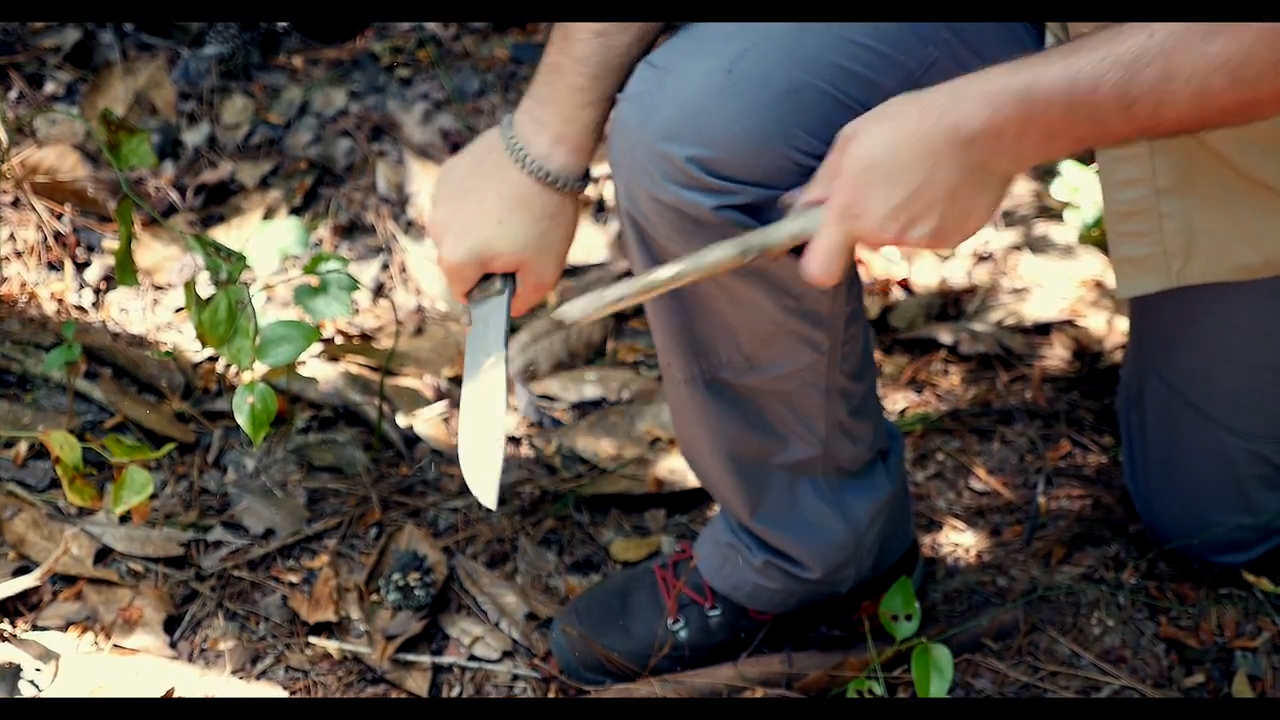knife: (421, 210, 570, 520)
